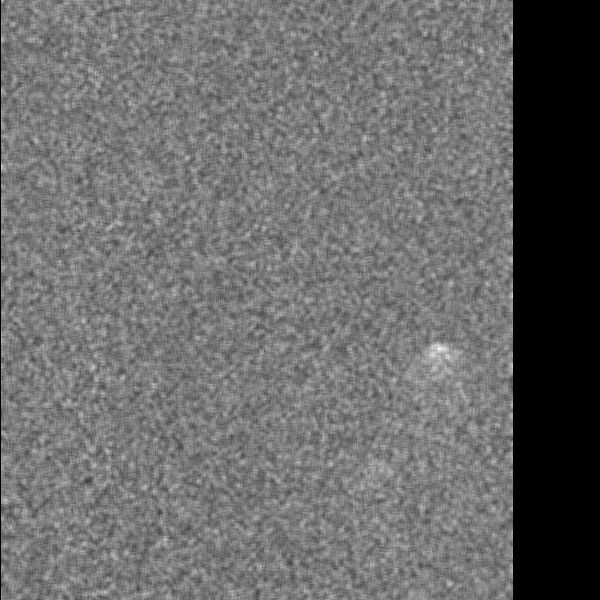spark: (428, 337, 452, 389), (366, 441, 412, 461)
